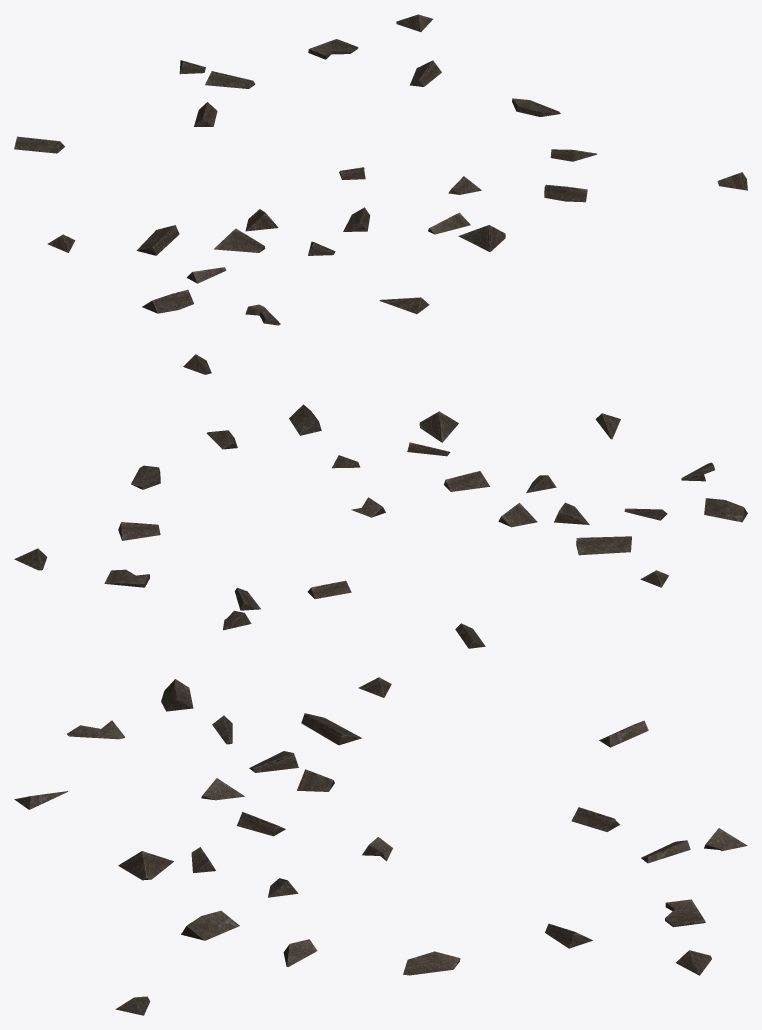
The model's file is debris_bricks_mx_1.glb.
3 views of the same model, one above another, from view 1: azimuth 30°, elevation 25°; view 2: azimuth 150°, elevation 25°; view 3: azimuth 270°, elevation 25° (orthographic). The views are drawn at different scales.
Parts seen in each view (by area): view 1: debris_bricks_mx_1; view 2: debris_bricks_mx_1; view 3: debris_bricks_mx_1.
Part boxes in pixels (x1=…): debris_bricks_mx_1: x1=14, y1=14, x2=747, y2=325; debris_bricks_mx_1: x1=14, y1=354, x2=747, y2=648; debris_bricks_mx_1: x1=14, y1=677, x2=747, y2=1015.
Size of the model in its own units: 2.31 by 0.0652 by 2.16.
Materials: 1 (1 with a texture image).
